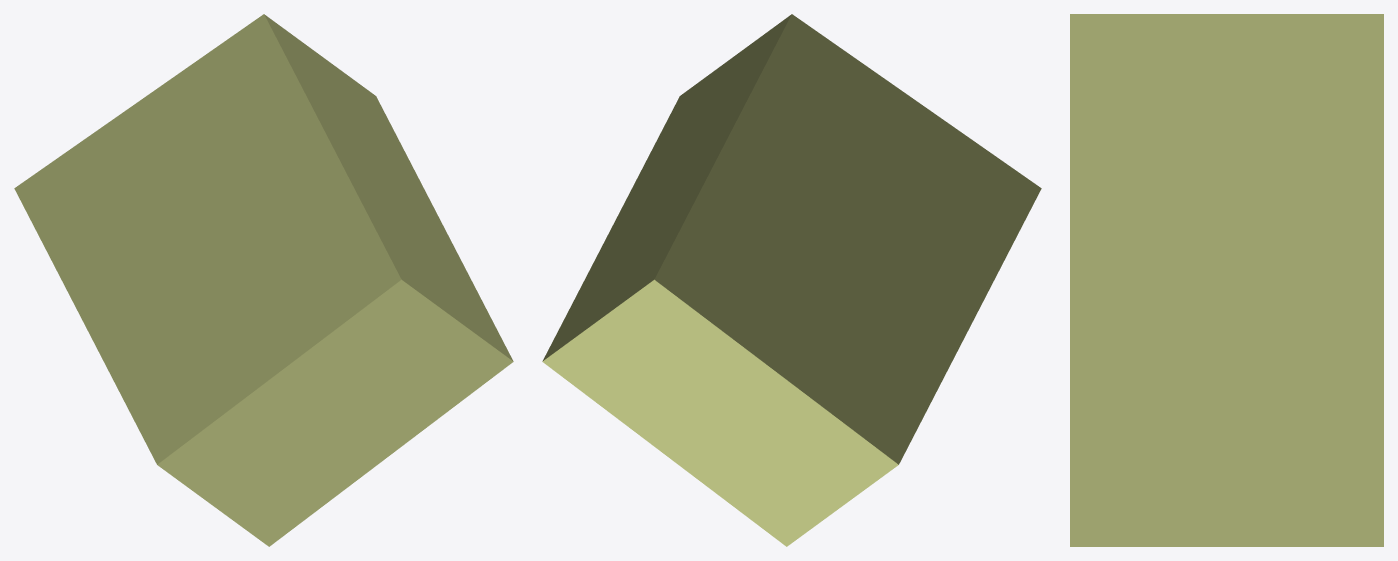
3 views of the same model, side by side, from view 1: azimuth 30°, elevation 25°; view 2: azimuth 150°, elevation 25°; view 3: azimuth 270°, elevation 25° (orthographic). The views are drawn at different scales.
Visible parts, largest first — view 1: 0_1_1_3_2_1_3_0_2_3; view 2: 0_1_1_3_2_1_3_0_2_3; view 3: 0_1_1_3_2_1_3_0_2_3.
Part boxes in pixels (x1,y1,x2,y2): 0_1_1_3_2_1_3_0_2_3: (14, 14, 513, 546); 0_1_1_3_2_1_3_0_2_3: (542, 14, 1041, 546); 0_1_1_3_2_1_3_0_2_3: (1070, 14, 1383, 546).
Size of the model in its own units: 11.96 by 12.54 by 6.
